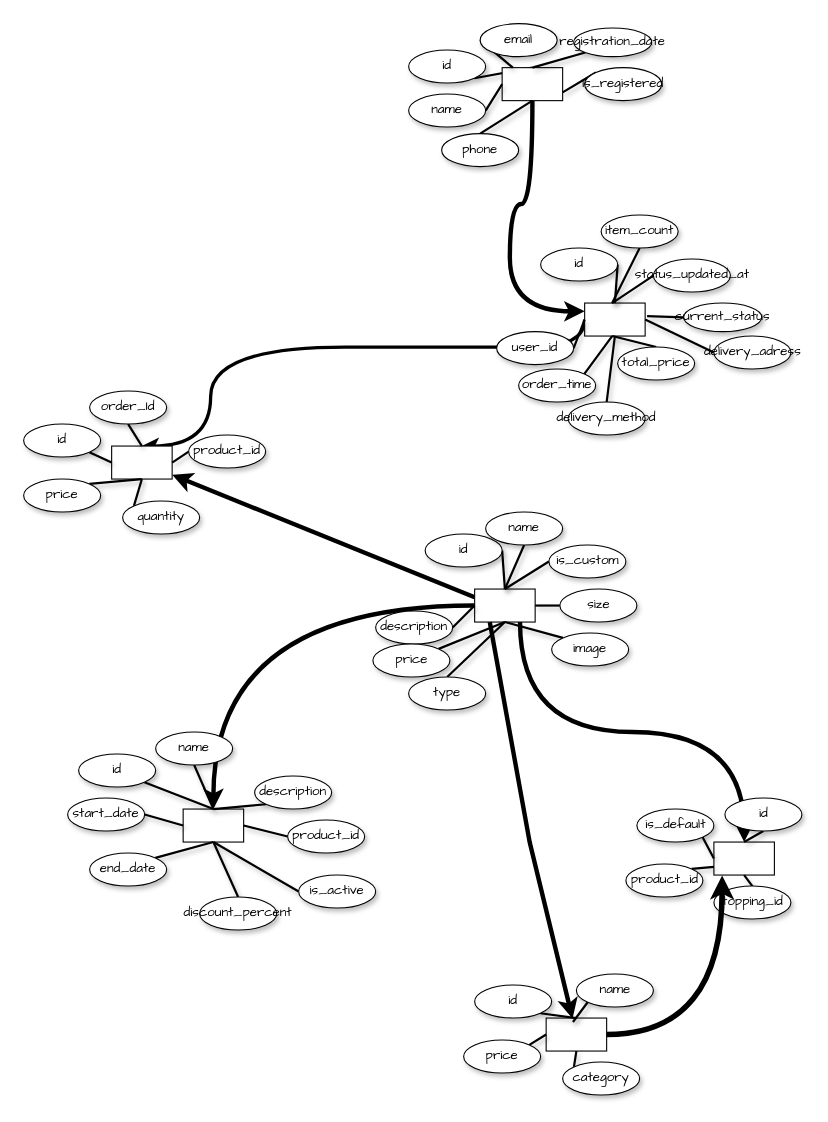
This 828x1122 diagram has some shape labels left out. The shapes that lost their labels are listed below. From the top down, each one's centre as x and y in pixels, then its label:
At (x=532, y=84): "Client".
At (x=614, y=319): "Order".
At (x=141, y=462): "Order item".
At (x=504, y=605): "Product".
At (x=213, y=825): "Promotion".
At (x=743, y=858): "Product Topping".
At (x=576, y=1034): "Topping".
